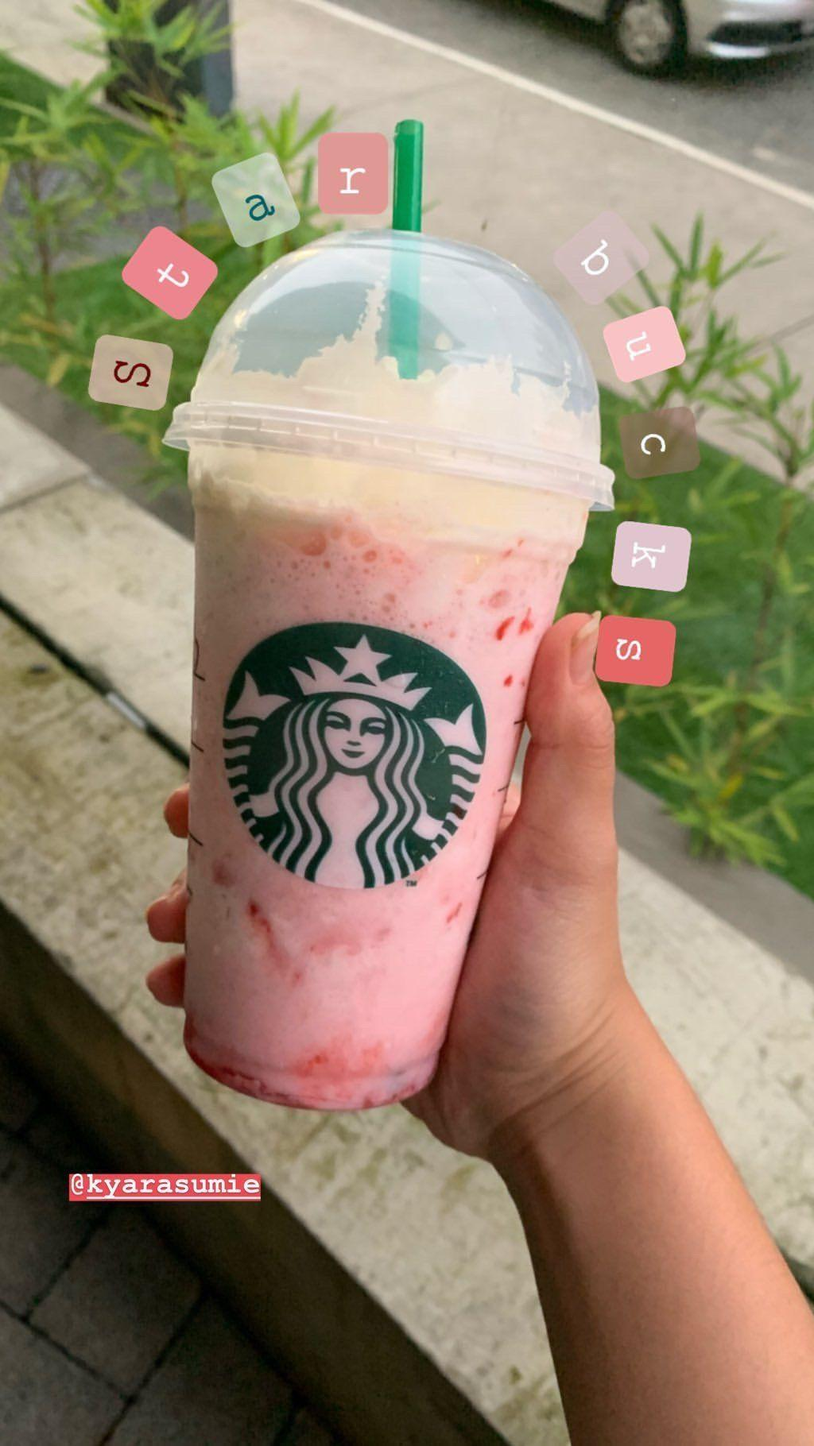cup-disposable: (167, 241, 604, 1106)
